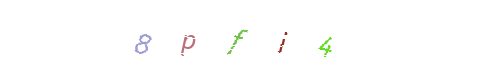4: (242, 0, 322, 80)
8: (135, 0, 215, 80)
F: (202, 0, 282, 80)
I: (242, 0, 322, 80)
P: (157, 0, 237, 80)
